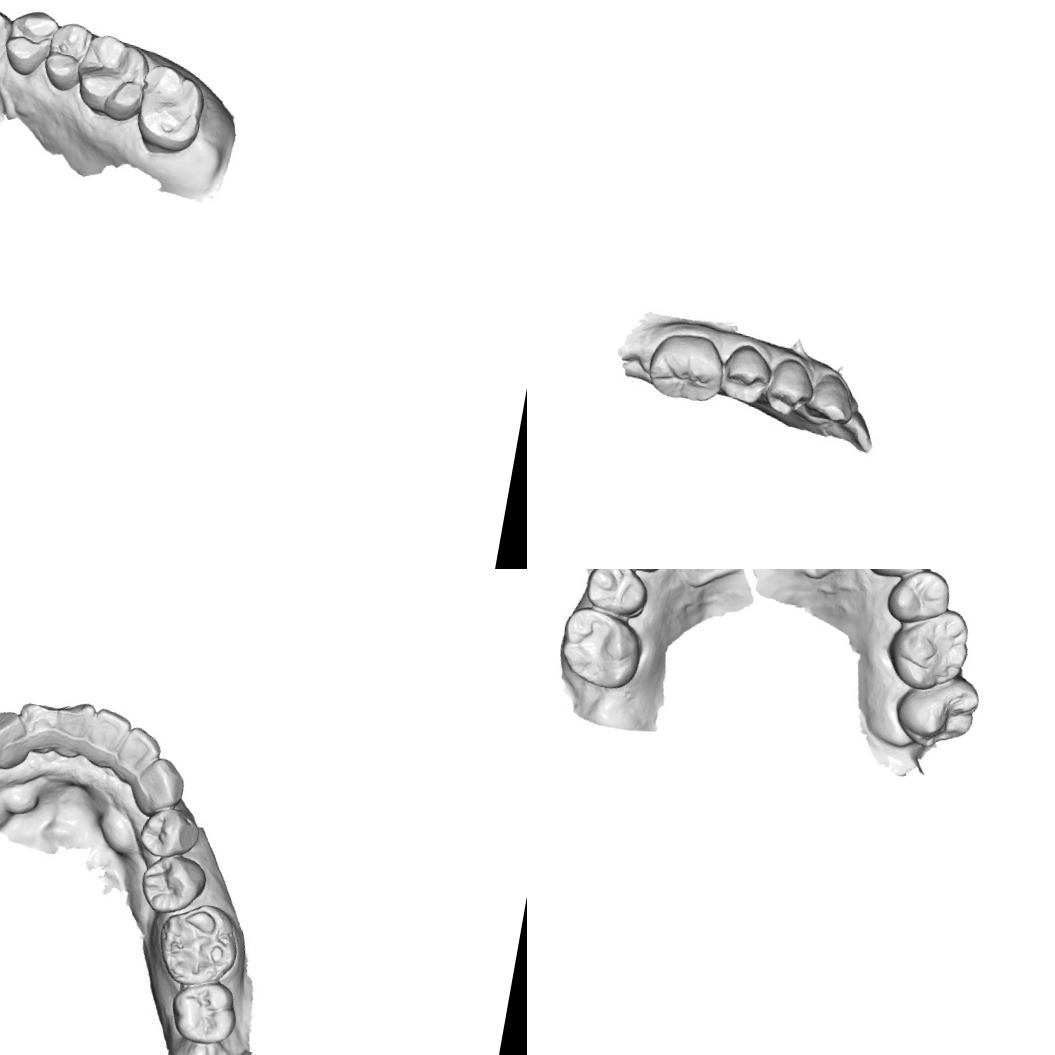canine: (124, 752, 190, 822), (801, 369, 859, 426), (0, 704, 37, 775), (0, 0, 17, 65)
incisor: (79, 702, 136, 772), (46, 693, 98, 762), (112, 721, 166, 784), (14, 698, 62, 757), (822, 404, 877, 454)
molar: (879, 597, 976, 698), (150, 895, 248, 994), (551, 602, 649, 694), (888, 665, 984, 757), (68, 28, 156, 126), (128, 59, 210, 158), (642, 327, 728, 406), (164, 972, 244, 1050)
premolar: (134, 847, 212, 922), (1, 1, 64, 84), (131, 800, 205, 866), (38, 18, 98, 96), (881, 569, 956, 630), (577, 569, 656, 622), (716, 340, 776, 407), (761, 355, 817, 420), (859, 569, 940, 585)
